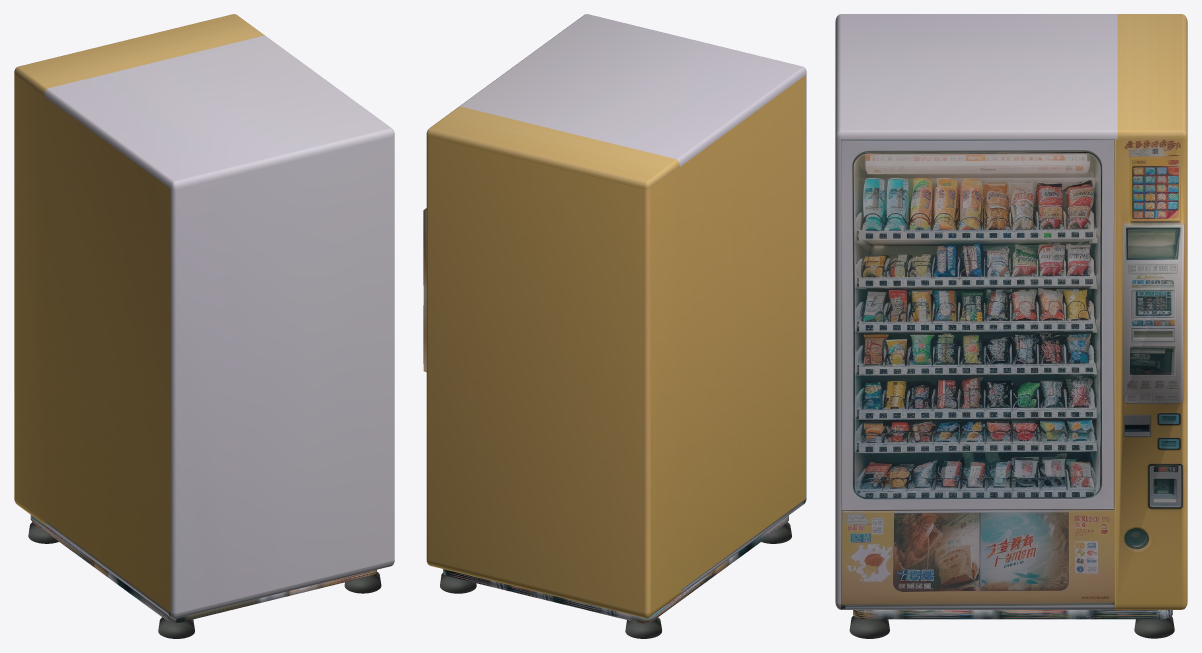
Rendered from vending machine asset.fbx.
3 renders of one model, left to right at view 1: azimuth 30°, elevation 25°; view 2: azimuth 150°, elevation 25°; view 3: azimuth 270°, elevation 25°, orthographic. The views are drawn at different scales.
Parts seen in each view (by area): view 1: vending machine; view 2: vending machine; view 3: vending machine.
Boxes of the visible parts, x1,y1,x2,y2 form: vending machine: [14, 14, 394, 638]; vending machine: [423, 14, 806, 638]; vending machine: [835, 14, 1187, 638].
Bounding box in the file's own units: 118 × 230 × 144.
1 material, 1 textured.
